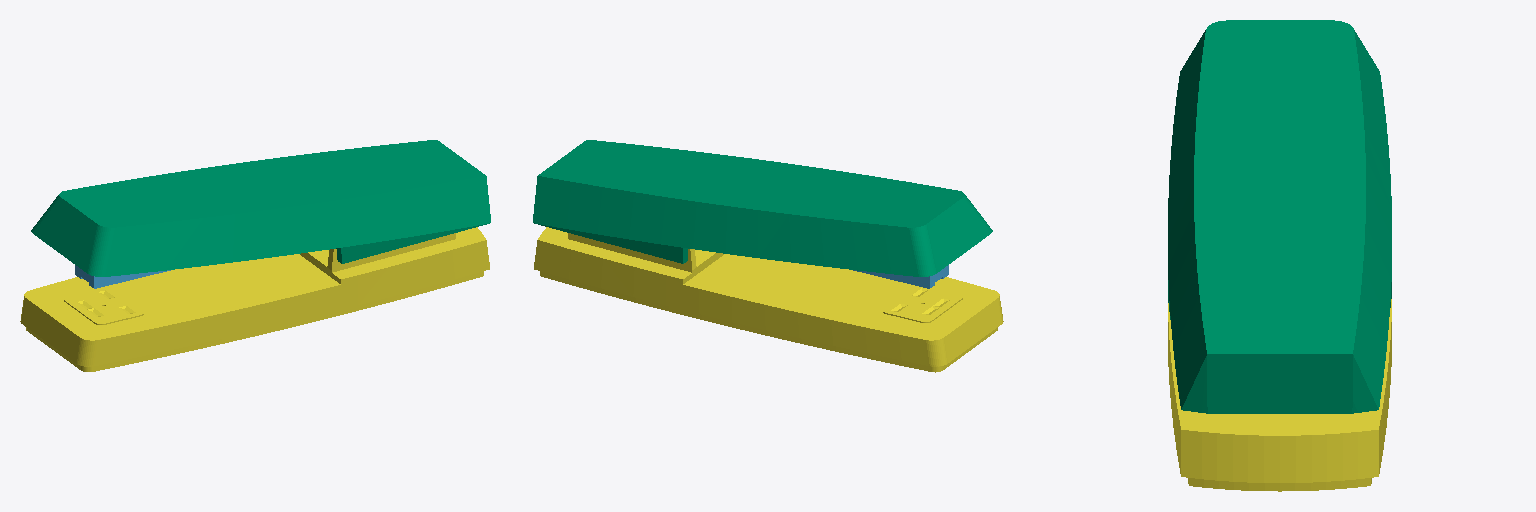
The robot description file, URDF, robot "partnet_376eb047b40ef4f6a480e3d8fdbd4a92":
<?xml version="1.0" ?>
<robot name="partnet_376eb047b40ef4f6a480e3d8fdbd4a92">
	<link name="base"/>
	<link name="link_0">
        <contact>
          <lateral_friction value="1"/>
          <rolling_friction value="0.0001"/>
          <inertia_scaling value="3.0"/>
        </contact>
        <inertial>
          <origin rpy="0 0 0" xyz="0 0 0"/>
           <mass value="0.2"/>
           <inertia ixx="1" ixy="0" ixz="0" iyy="1" iyz="0" izz="1"/>
        </inertial>
		<visual name="body-1">
			<origin xyz="0 -0.09 0.76"/>
			<geometry>
				<mesh filename="textured_objs/original-2.obj"/>
			</geometry>
		</visual>
		<collision>
			<origin xyz="0 -0.09 0.76"/>
			<geometry>
				<mesh filename="textured_objs/original-2.obj"/>
			</geometry>
		</collision>
	</link>
	<joint name="joint_0" type="fixed">
		<origin xyz="0 0.0 0.0"/>
		<axis xyz="1 0 0"/>
		<child link="link_0"/>
		<parent link="link_1"/>
		<limit lower="0.0" upper="2.076941809873252"/>
	</joint>
	<link name="link_1">
        <contact>
          <lateral_friction value="1"/>
          <rolling_friction value="0.0001"/>
          <inertia_scaling value="3.0"/>
        </contact>
        <inertial>
          <origin rpy="0 0 0" xyz="0 0 0"/>
           <mass value="0.2"/>
           <inertia ixx="1" ixy="0" ixz="0" iyy="1" iyz="0" izz="1"/>
        </inertial>
		<visual name="lid-2">
			<origin xyz="0 -0.09 0.76"/>
			<geometry>
				<mesh filename="textured_objs/original-4.obj"/>
			</geometry>
		</visual>
		<visual name="lid-2">
			<origin xyz="0 -0.09 0.76"/>
			<geometry>
				<mesh filename="textured_objs/original-11.obj"/>
			</geometry>
		</visual>
		<visual name="lid-2">
			<origin xyz="0 -0.09 0.76"/>
			<geometry>
				<mesh filename="textured_objs/original-6.obj"/>
			</geometry>
		</visual>
		<visual name="lid-2">
			<origin xyz="0 -0.09 0.76"/>
			<geometry>
				<mesh filename="textured_objs/original-5.obj"/>
			</geometry>
		</visual>
		<collision>
			<origin xyz="0 -0.09 0.76"/>
			<geometry>
				<mesh filename="textured_objs/original-4.obj"/>
			</geometry>
		</collision>
		<collision>
			<origin xyz="0 -0.09 0.76"/>
			<geometry>
				<mesh filename="textured_objs/original-11.obj"/>
			</geometry>
		</collision>
		<collision>
			<origin xyz="0 -0.09 0.76"/>
			<geometry>
				<mesh filename="textured_objs/original-6.obj"/>
			</geometry>
		</collision>
		<collision>
			<origin xyz="0 -0.09 0.76"/>
			<geometry>
				<mesh filename="textured_objs/original-5.obj"/>
			</geometry>
		</collision>
	</link>
	<joint name="joint_1" type="fixed">
		<origin xyz="0 0.09 -0.76"/>
		<axis xyz="-1 0 0"/>
		<child link="link_1"/>
		<parent link="link_2"/>
		<limit lower="-0.0" upper="0.47123889803846897"/>
	</joint>
	<link name="link_2">
        <contact>
          <lateral_friction value="1"/>
          <rolling_friction value="0.0001"/>
          <inertia_scaling value="3.0"/>
        </contact>
        <inertial>
          <origin rpy="0 0 0" xyz="0 0 0"/>
           <mass value="0.2"/>
           <inertia ixx="1" ixy="0" ixz="0" iyy="1" iyz="0" izz="1"/>
        </inertial>
		<visual name="base_body-3">
			<origin xyz="0 0 0"/>
			<geometry>
				<mesh filename="textured_objs/original-8.obj"/>
			</geometry>
		</visual>
		<visual name="base_body-3">
			<origin xyz="0 0 0"/>
			<geometry>
				<mesh filename="textured_objs/original-9.obj"/>
			</geometry>
		</visual>
		<visual name="base_body-3">
			<origin xyz="0 0 0"/>
			<geometry>
				<mesh filename="textured_objs/original-7.obj"/>
			</geometry>
		</visual>
		<visual name="base_body-3">
			<origin xyz="0 0 0"/>
			<geometry>
				<mesh filename="textured_objs/original-1.obj"/>
			</geometry>
		</visual>
		<visual name="base_body-3">
			<origin xyz="0 0 0"/>
			<geometry>
				<mesh filename="textured_objs/original-10.obj"/>
			</geometry>
		</visual>
		<collision>
			<origin xyz="0 0 0"/>
			<geometry>
				<mesh filename="textured_objs/original-8.obj"/>
			</geometry>
		</collision>
		<collision>
			<origin xyz="0 0 0"/>
			<geometry>
				<mesh filename="textured_objs/original-9.obj"/>
			</geometry>
		</collision>
		<collision>
			<origin xyz="0 0 0"/>
			<geometry>
				<mesh filename="textured_objs/original-7.obj"/>
			</geometry>
		</collision>
		<collision>
			<origin xyz="0 0 0"/>
			<geometry>
				<mesh filename="textured_objs/original-1.obj"/>
			</geometry>
		</collision>
		<collision>
			<origin xyz="0 0 0"/>
			<geometry>
				<mesh filename="textured_objs/original-10.obj"/>
			</geometry>
		</collision>
	</link>
	<joint name="joint_2" type="fixed">
		<origin rpy="1.570796326794897 0 -1.570796326794897" xyz="0 0 0"/>
		<child link="link_2"/>
		<parent link="base"/>
	</joint>
</robot>

--- Render facts (derived) ---
3 views of the same robot in one strip: view 1: azimuth 30°, elevation 25°; view 2: azimuth 150°, elevation 25°; view 3: azimuth 270°, elevation 25° (orthographic).
Robot: partnet_376eb047b40ef4f6a480e3d8fdbd4a92 — 4 links, 3 joints (3 fixed); root link base; default pose: all joints at 0.
Links seen in each view (by area): view 1: link_1, link_2, link_0; view 2: link_1, link_2, link_0; view 3: link_1, link_2.
Link boxes in pixels (left/top/right/bottom): link_1: left=31, top=140, right=490, bottom=276; link_2: left=20, top=227, right=489, bottom=371; link_0: left=75, top=265, right=170, bottom=288; link_1: left=533, top=140, right=992, bottom=276; link_2: left=534, top=227, right=1003, bottom=372; link_0: left=853, top=265, right=948, bottom=288; link_1: left=1168, top=20, right=1391, bottom=413; link_2: left=1168, top=299, right=1391, bottom=491.
Size in the robot's own frame: 1.91 by 0.6083 by 0.5888 metres.
Meshes: 10 distinct files referenced, 10 mesh visuals loaded (10 OBJ).